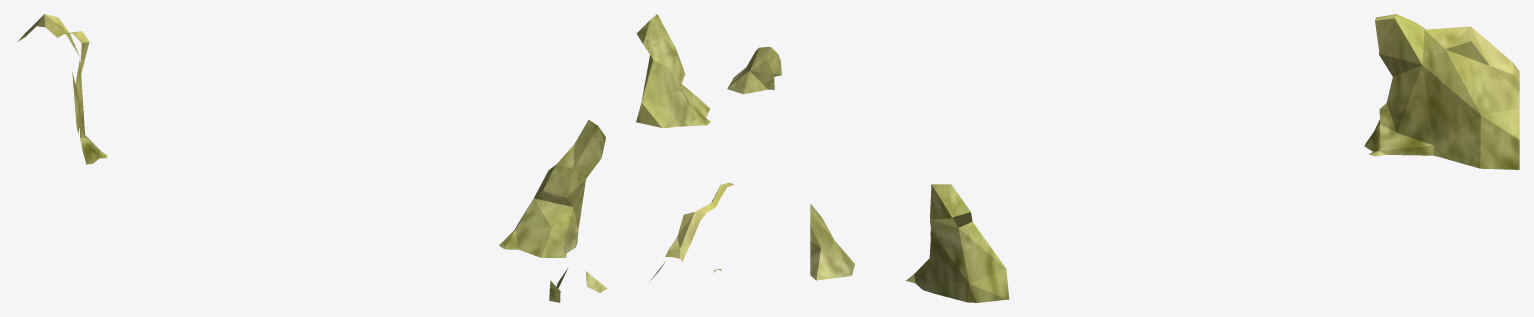
3 views of the same model, side by side, from view 1: azimuth 30°, elevation 25°; view 2: azimuth 150°, elevation 25°; view 3: azimuth 270°, elevation 25° (orthographic). The views are drawn at different scales.
Size of the model in its own units: 1.67 by 0.5949 by 2.95.
Materials: 1 (1 with a texture image).
